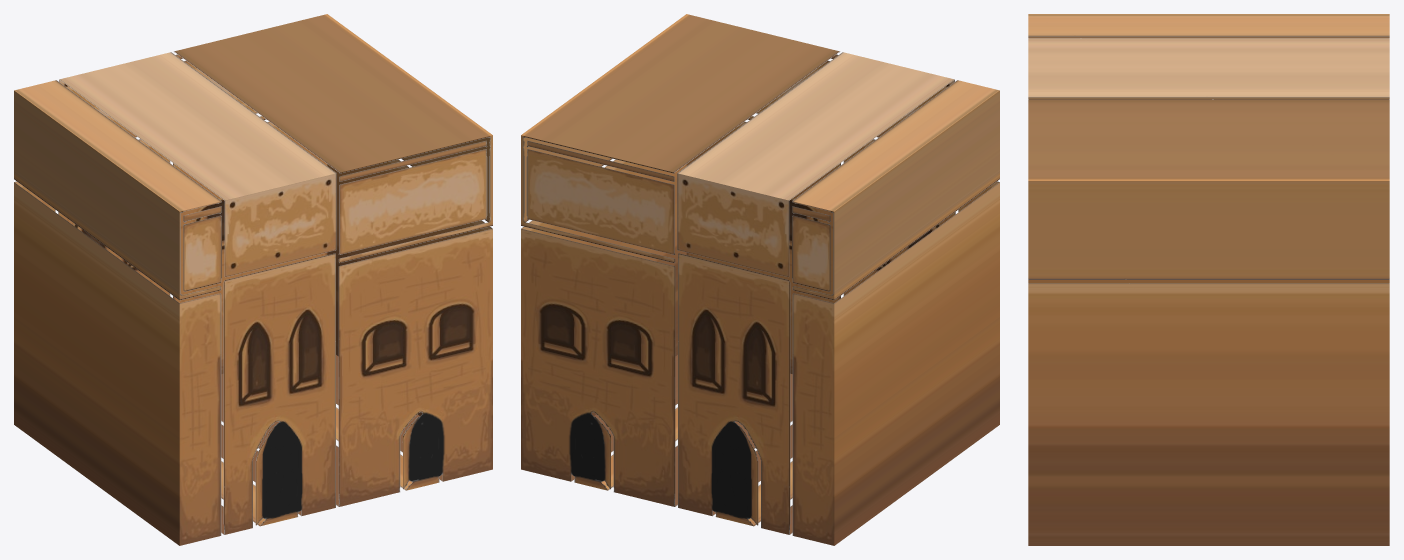
The model's file is house4.fbx.
3 renders of one model, left to right at view 1: azimuth 30°, elevation 25°; view 2: azimuth 150°, elevation 25°; view 3: azimuth 270°, elevation 25°, orthographic. The views are drawn at different scales.
Parts seen in each view (by area): view 1: Plane; view 2: Plane; view 3: Plane.
Boxes of the visible parts, x1,y1,x2,y2 form: Plane: (14, 14, 492, 545); Plane: (521, 14, 999, 545); Plane: (1028, 14, 1389, 545).
Bounding box in the file's own units: 71.02 × 72.42 × 65.
